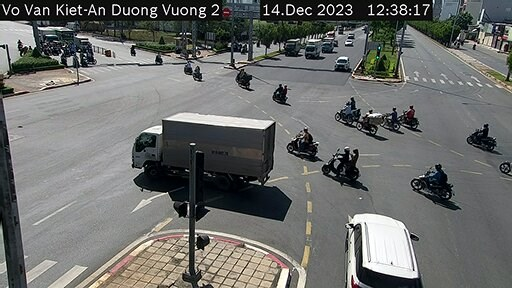car: (337, 209, 426, 288), (334, 55, 351, 70)
motorbike: (412, 168, 452, 205), (323, 151, 360, 183), (282, 128, 319, 159), (466, 125, 497, 154), (356, 116, 384, 139), (332, 102, 356, 127), (271, 82, 287, 104)
truck: (130, 111, 279, 191), (303, 37, 324, 60), (284, 37, 302, 57)
